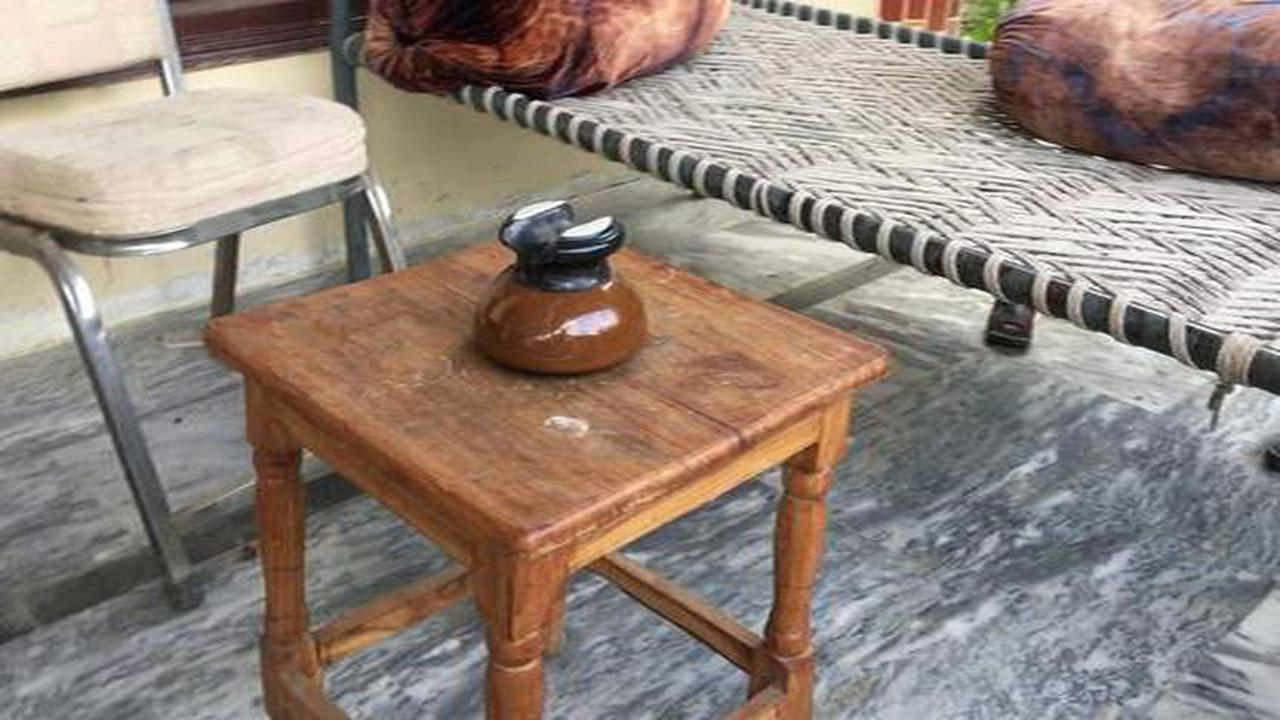insulator_pin: (456, 180, 665, 385)
